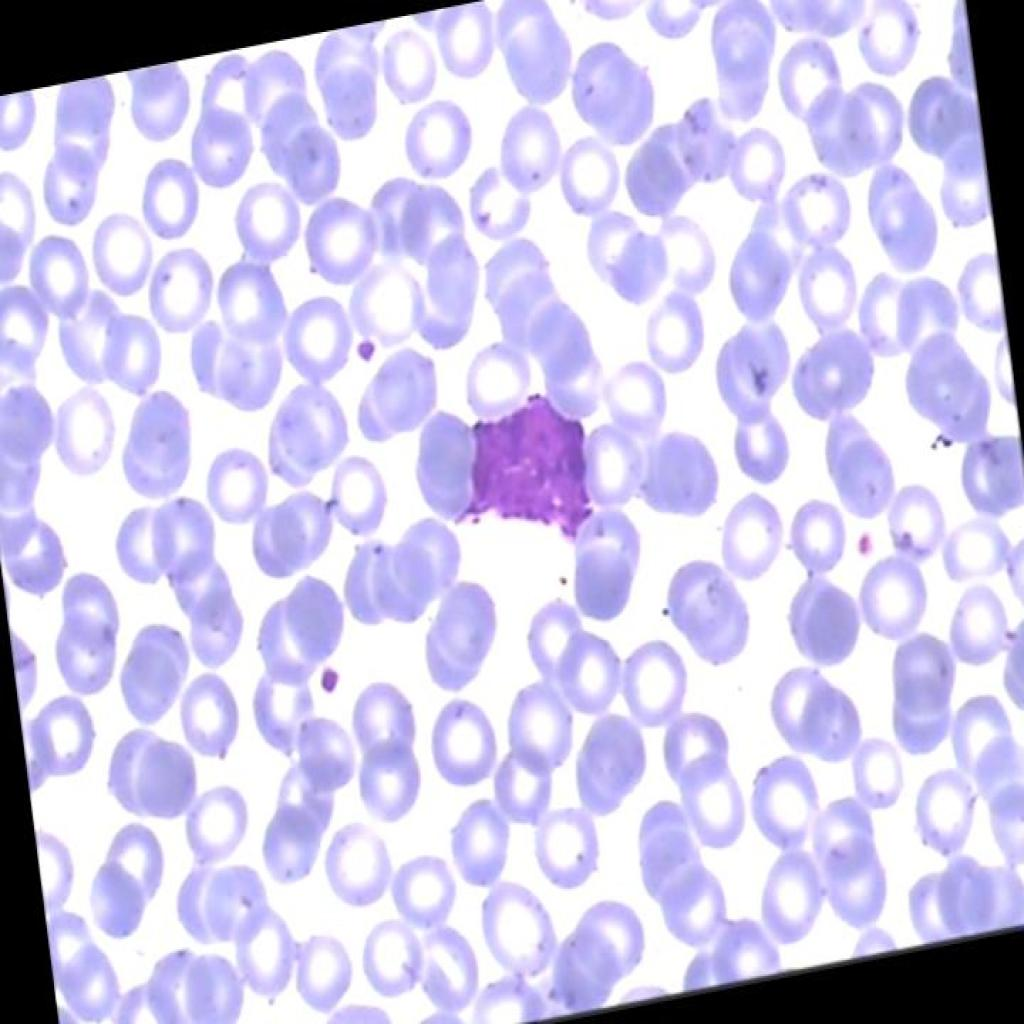Basofil: (454, 368, 602, 551)
Platelet: (338, 331, 376, 382), (849, 512, 880, 569), (313, 647, 344, 693)
